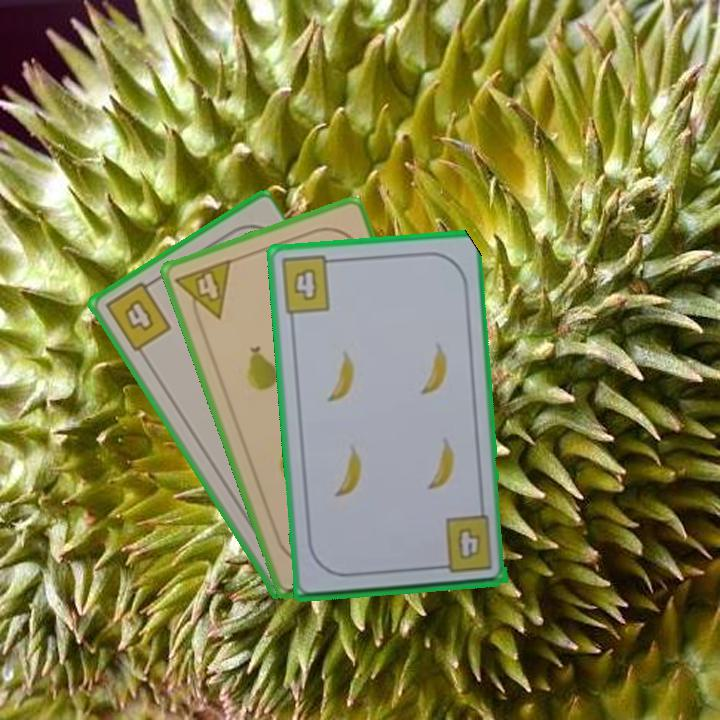4b: (101, 275, 174, 355), (277, 252, 341, 317), (456, 523, 482, 559)
4p: (172, 255, 234, 328)
